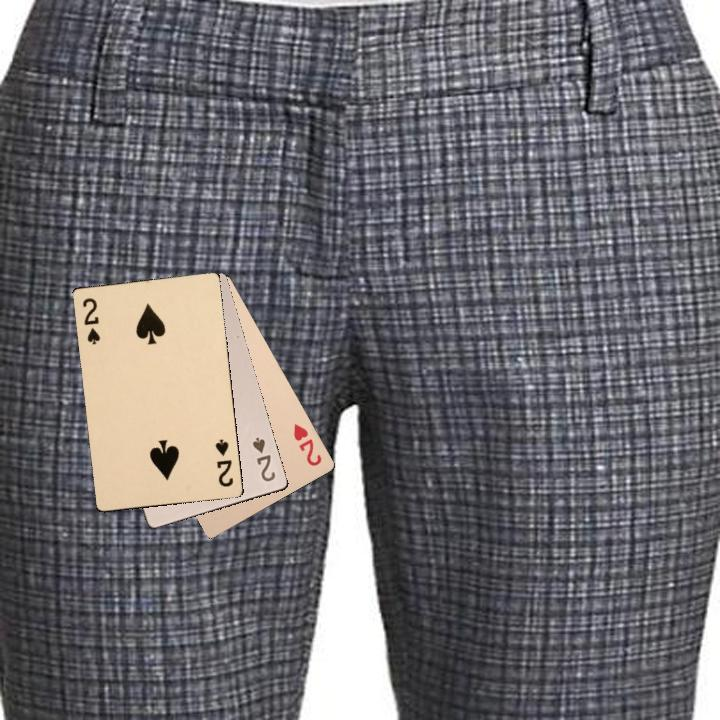2h: (289, 420, 324, 469)
2s: (248, 433, 278, 484), (211, 435, 236, 489), (78, 294, 102, 347)
